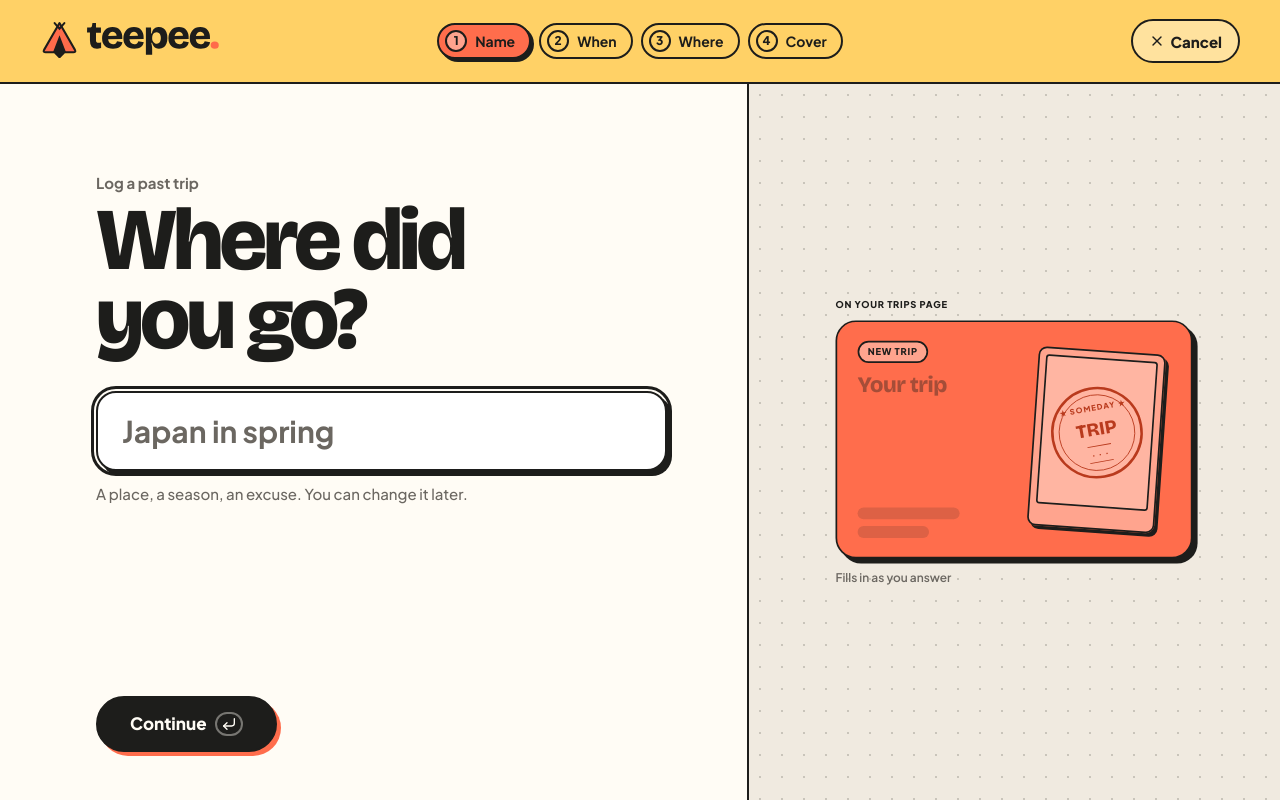
Test: NewTripFlow — create (NEW_TRIP.md §9) › past mode requires the dates
Step 1. Type "Bali 2024" into the field named "Trip name" → {"x": 381, "y": 431}, box [96, 391, 667, 471]
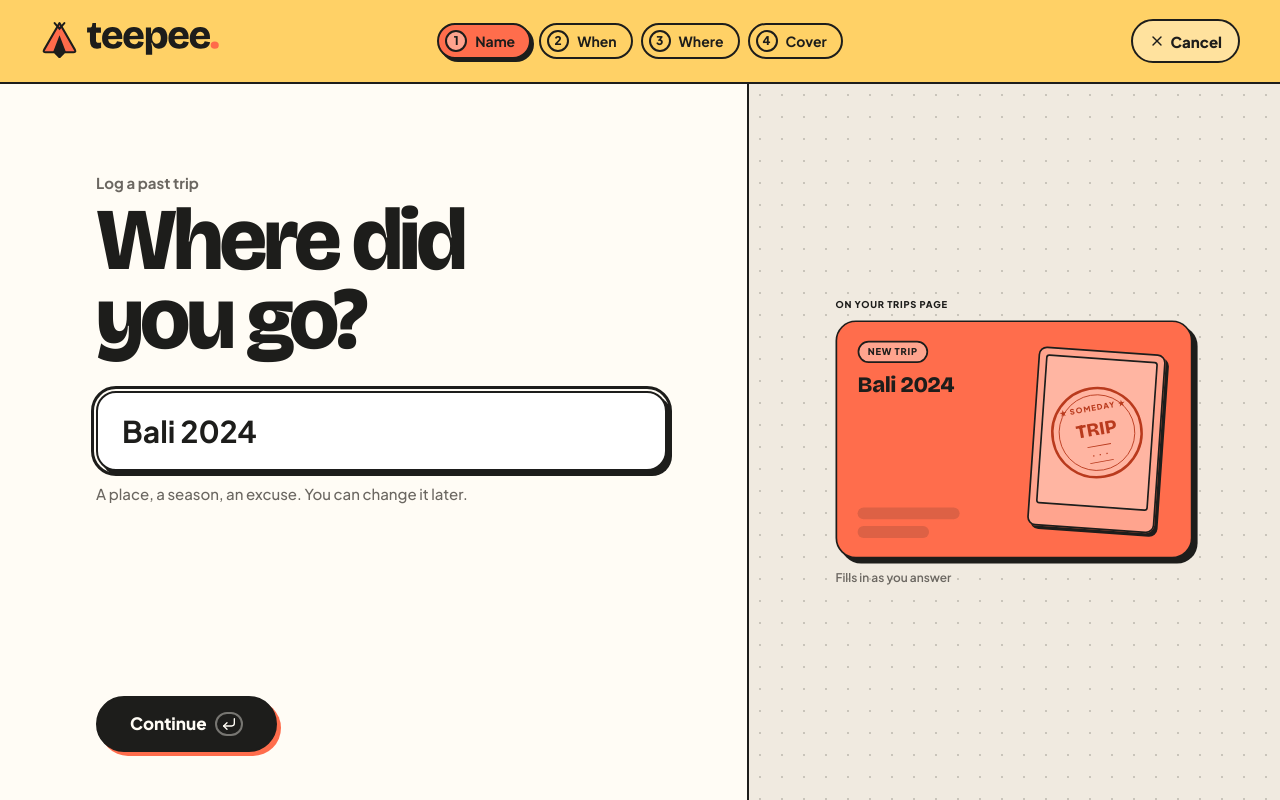
Step 2. Click the button "Continue" → {"x": 186, "y": 724}, box [96, 696, 276, 752]
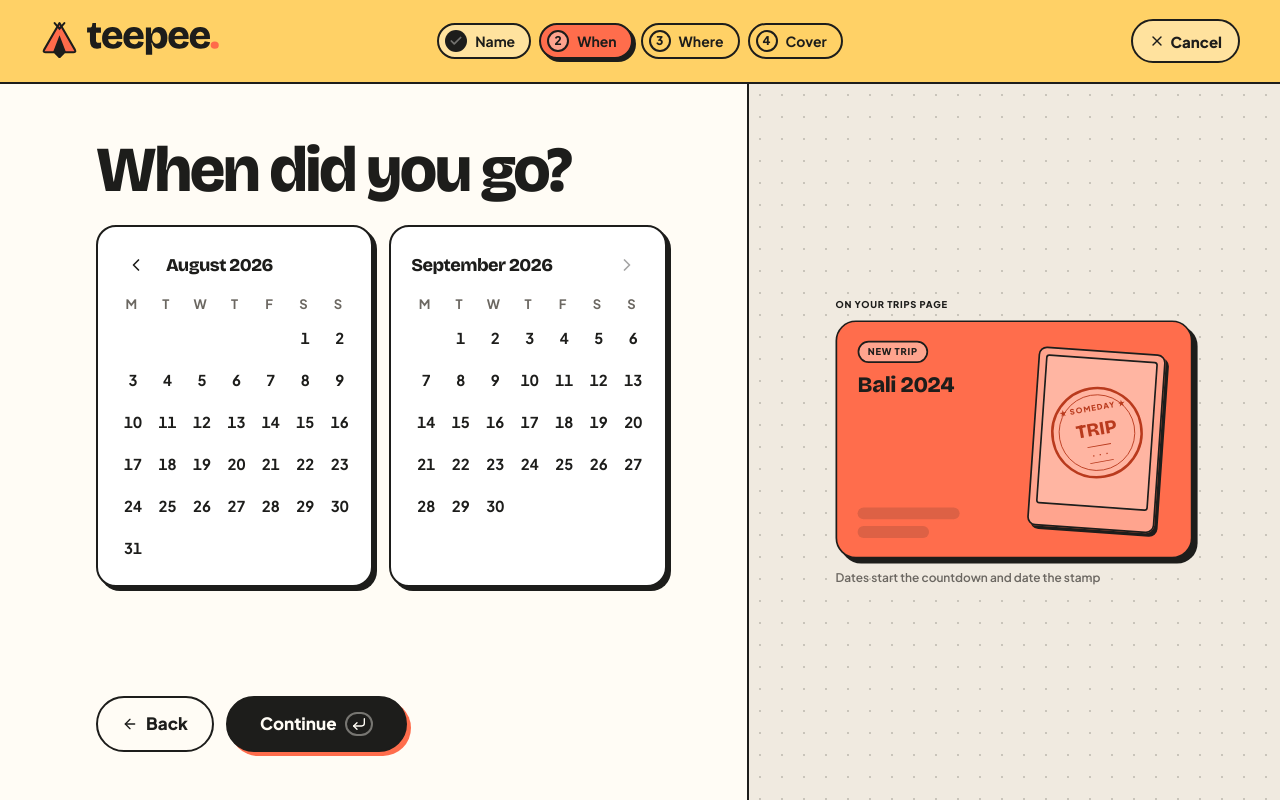
Step 3. Click the button "Continue" → {"x": 316, "y": 724}, box [226, 696, 406, 752]
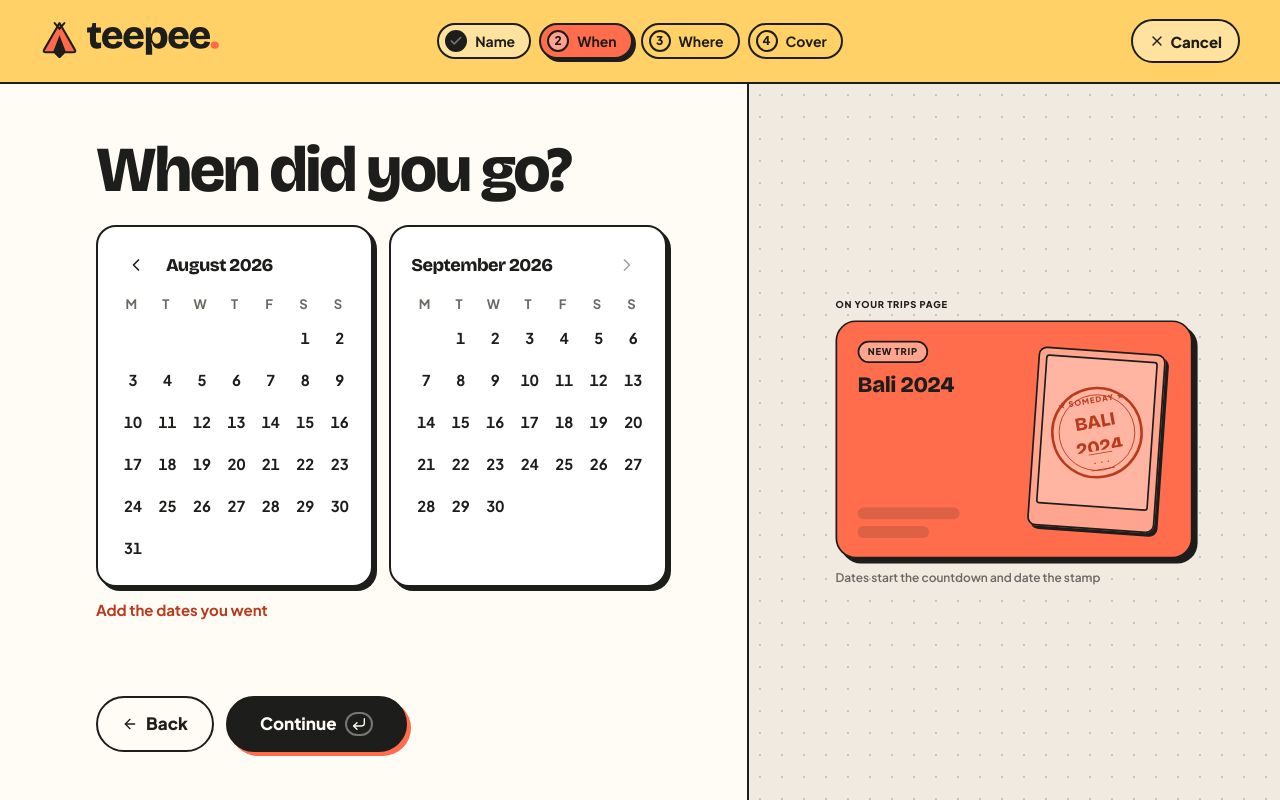
Expected: the heading "When did you go?" is shown, [96, 131, 570, 208]
Expected: the message reads "Add the dates you went", [96, 600, 268, 619]
